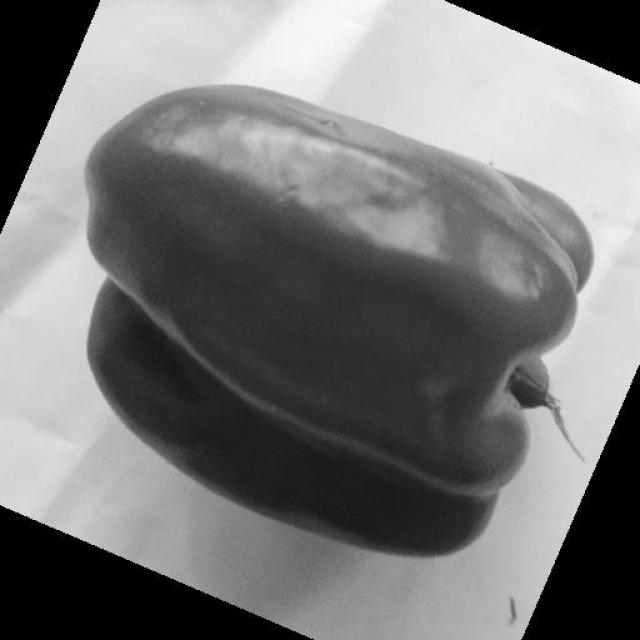Fresh_Capsicum: (130, 113, 541, 529)
